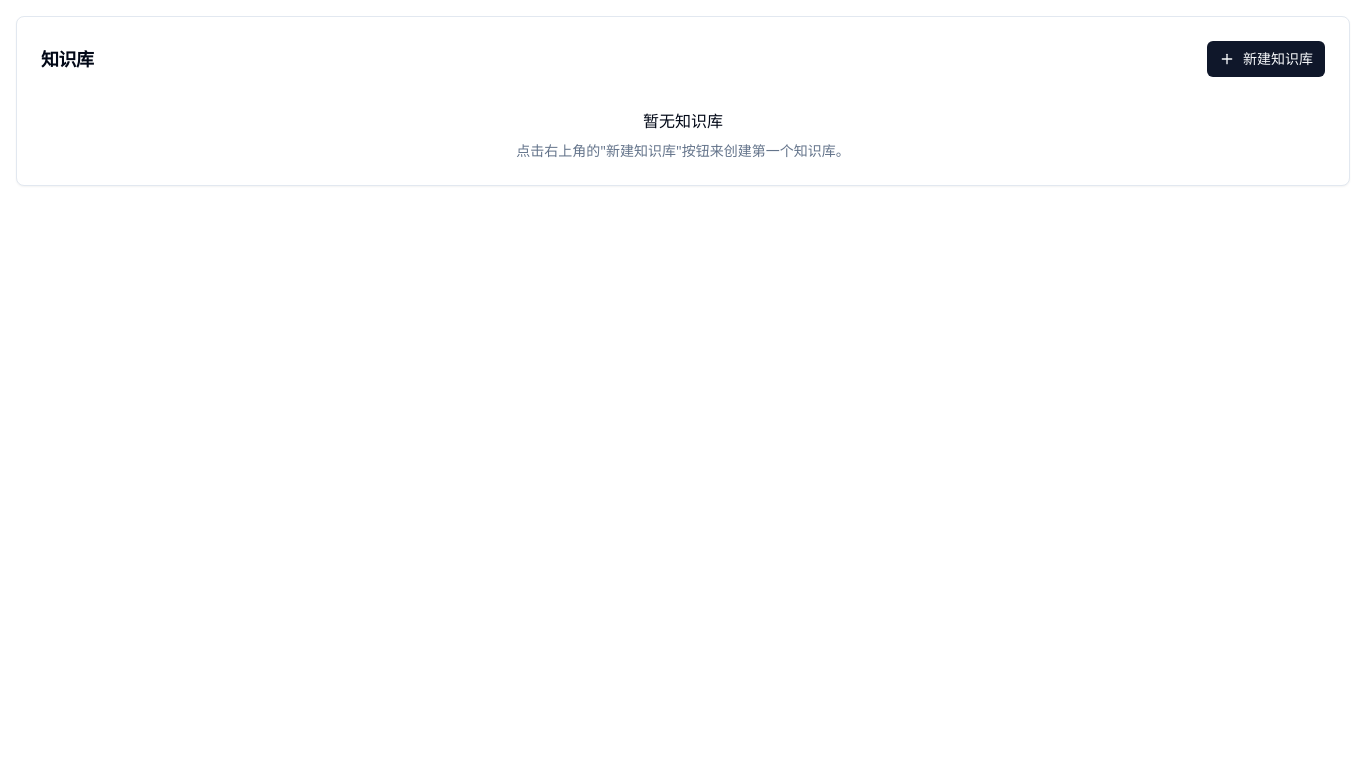
Test case: KbPage › submits the create dialog and navigates to the new KB
Click the button with test id "kb-create-open".
click(1266, 59)  # box [1207,41,1325,77]
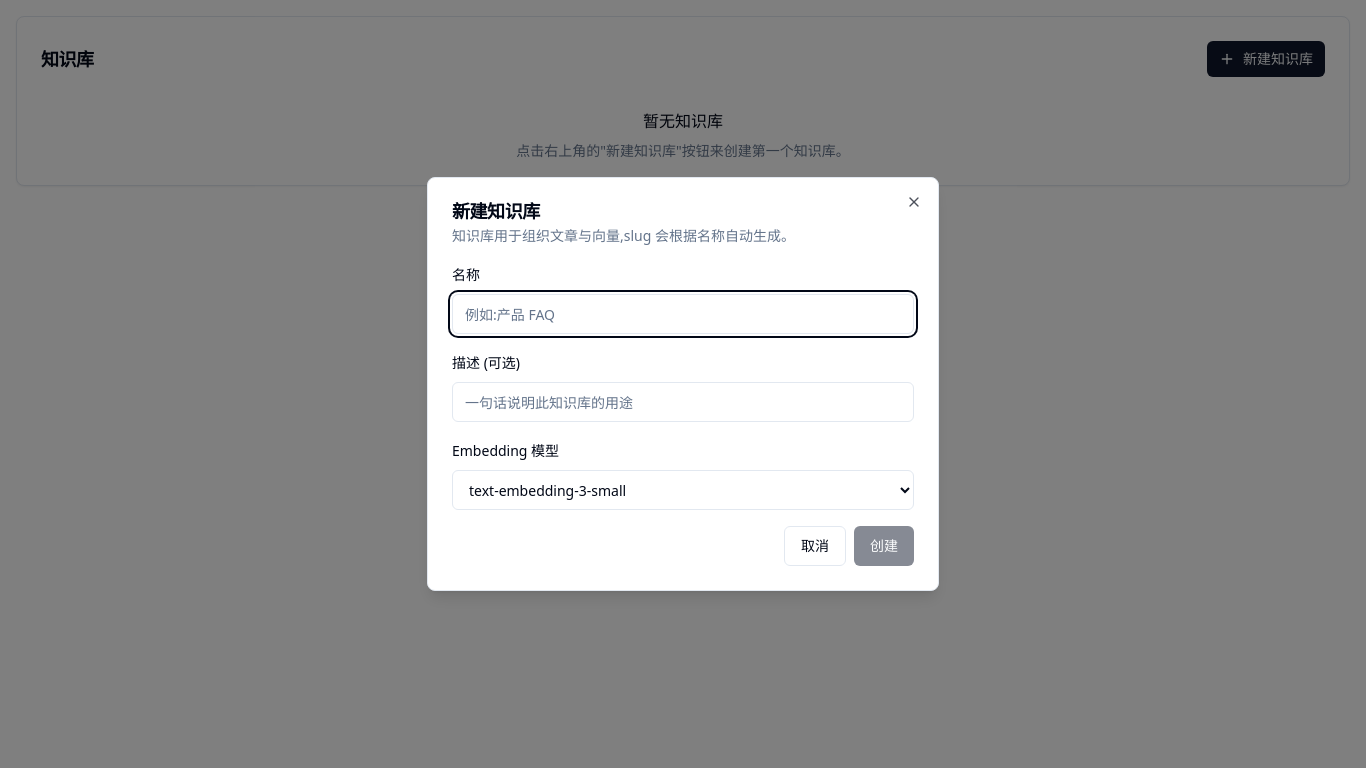
Type "新知识库" into the field with test id "kb-create-name".
click(683, 314); type("新知识库")  # box [452,294,914,334]
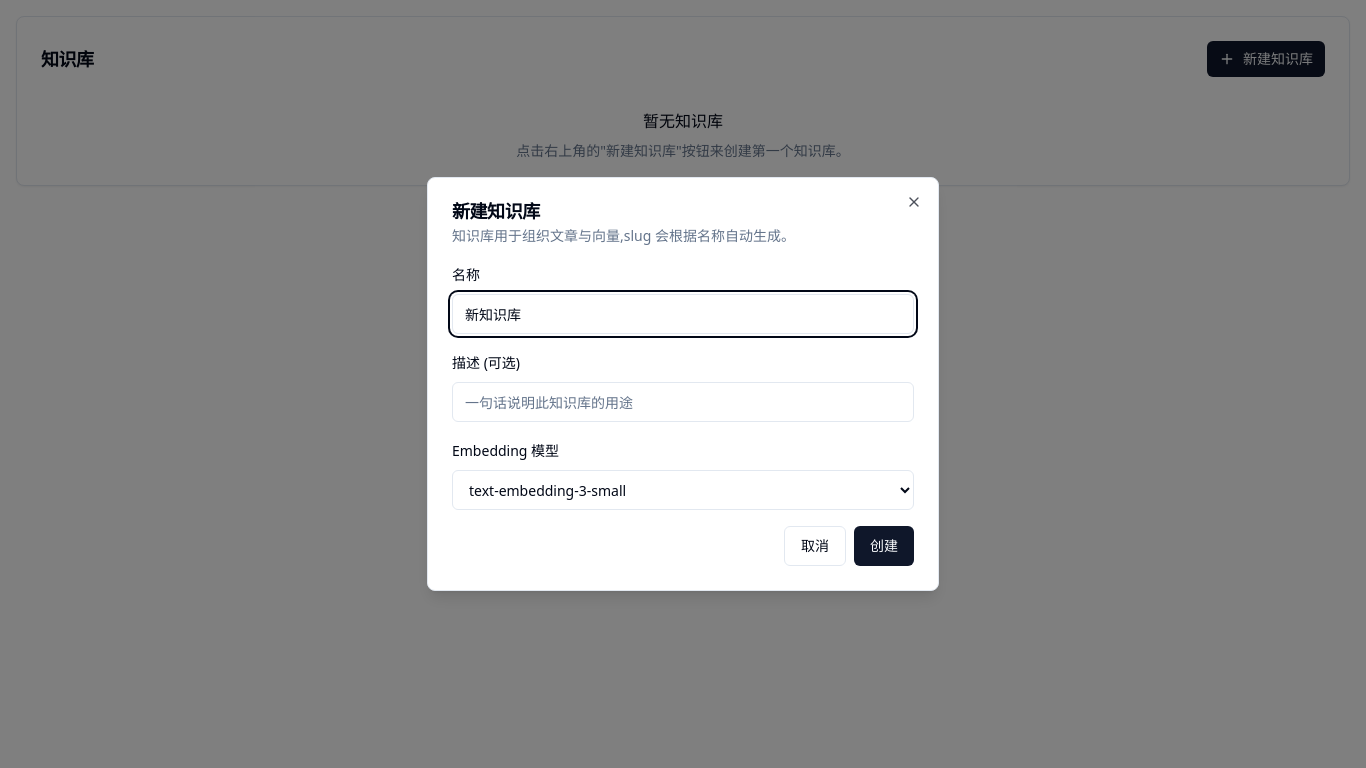
Click the button with test id "kb-create-submit".
click(884, 546)  # box [854,526,914,566]
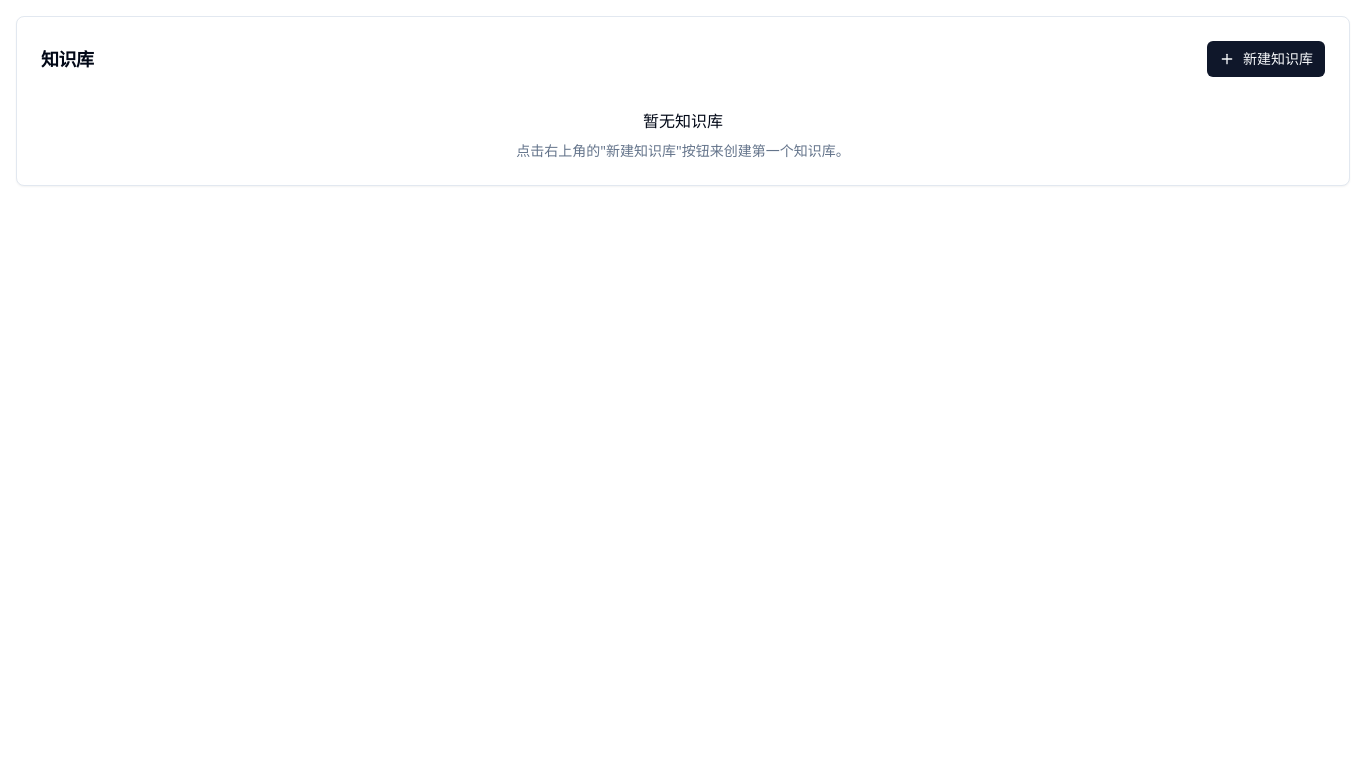
Result: the dialog with test id "kb-create-dialog" is gone
